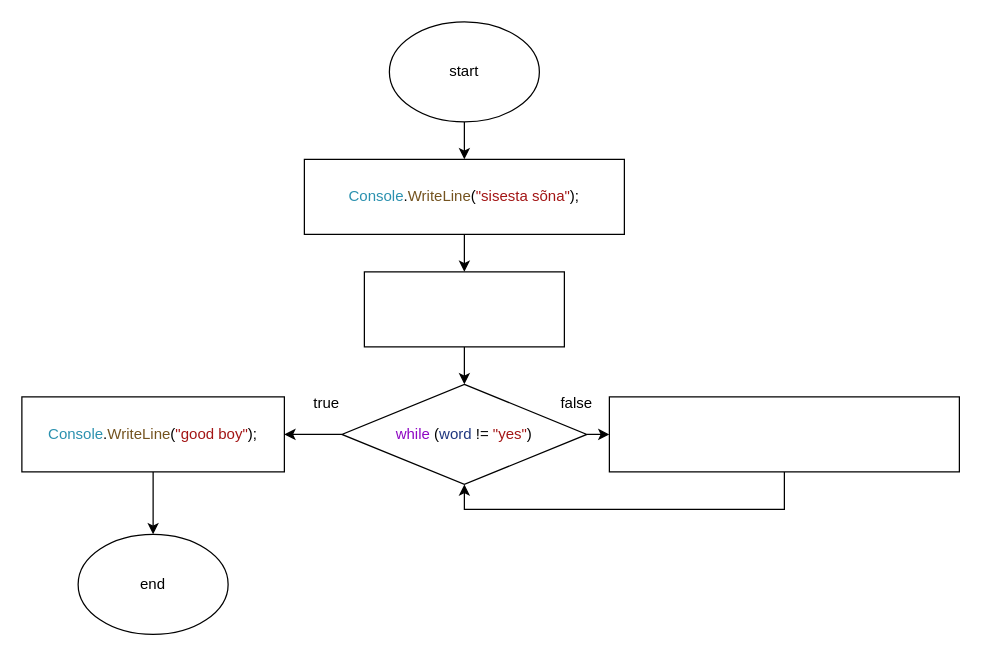
Some shapes in this 981 by 656 pixel diagram are drawn without their labels. The shapes that lost their labels are listed below. From the top down, each one's centre as x and y in pixels, then its label:
(463,309): string word = "" ;
(783,434): Console . WriteLine ( "proovi veelkord!" ); word = Console . ReadLine ();
